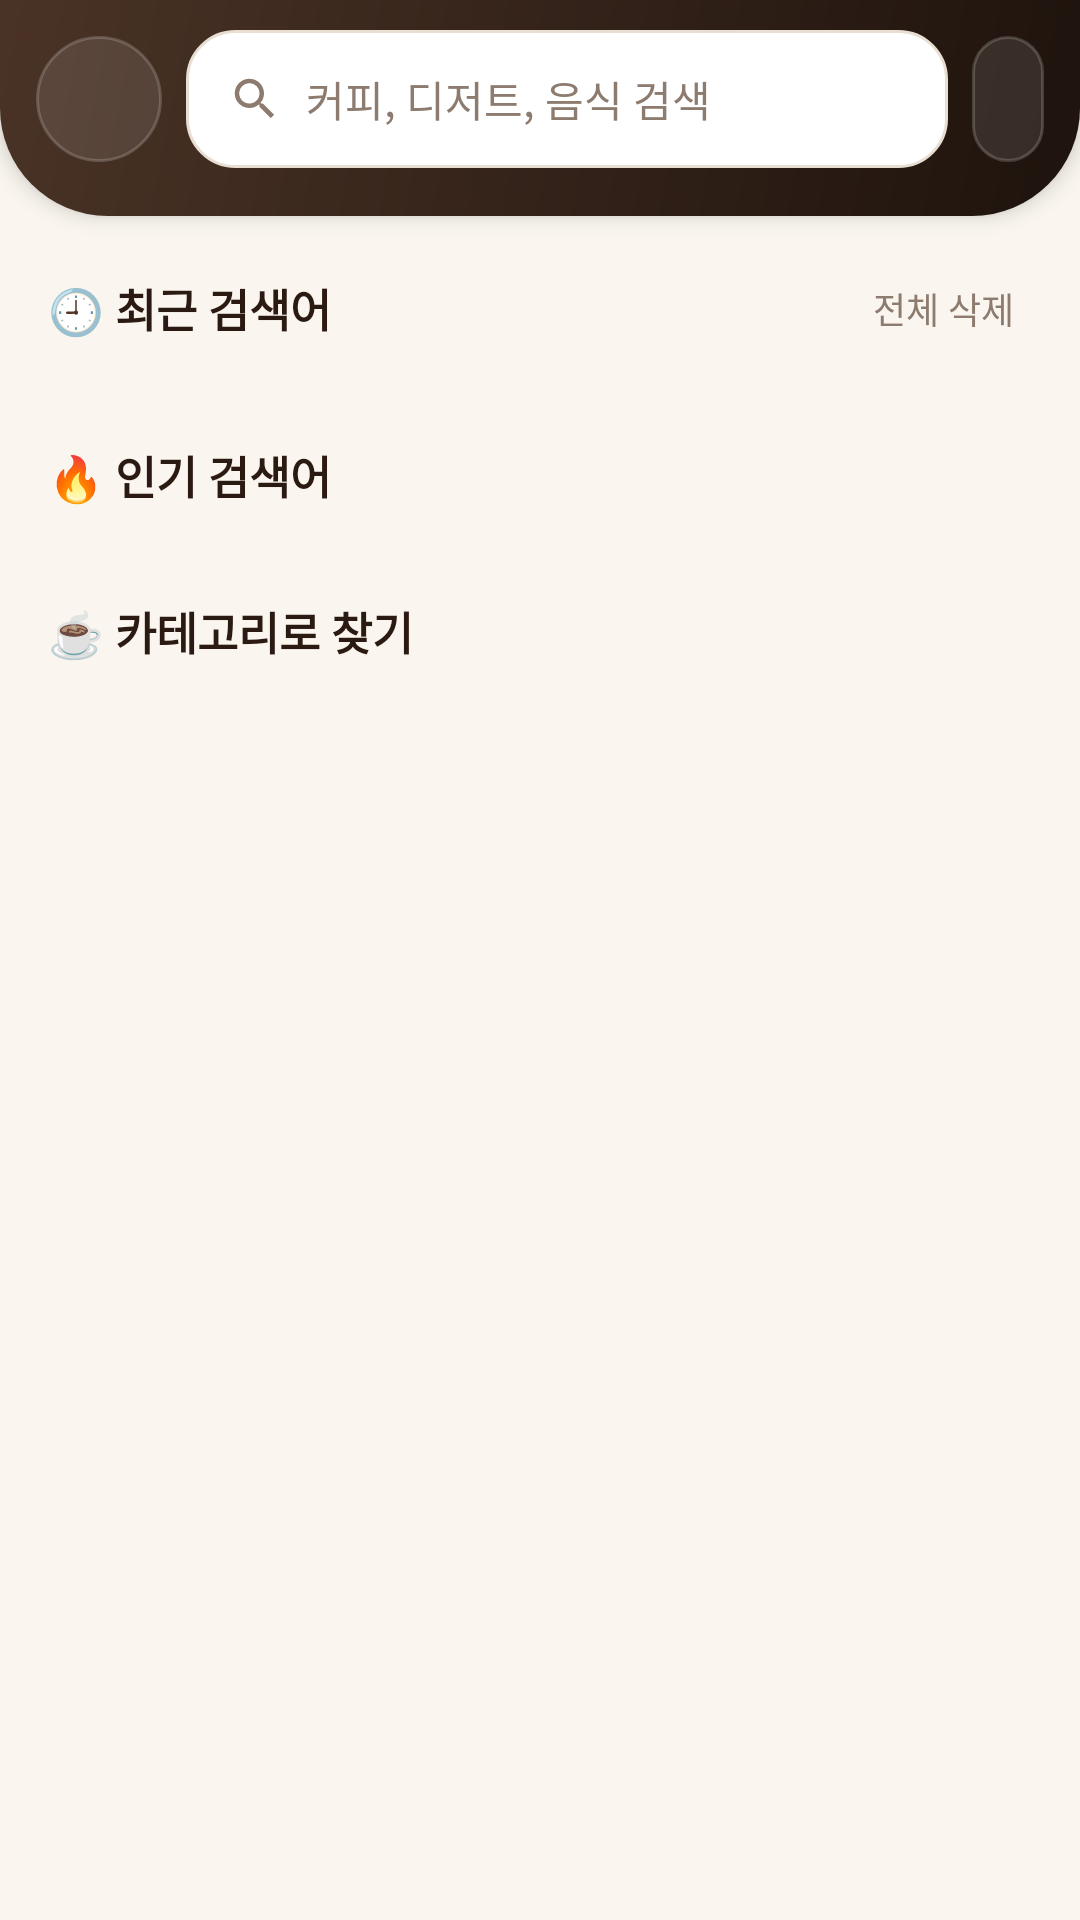

Where icons sit on this 1080 × 1920 app screen, as (x1, y1, x2, y2):
search: (234, 78, 274, 118)
